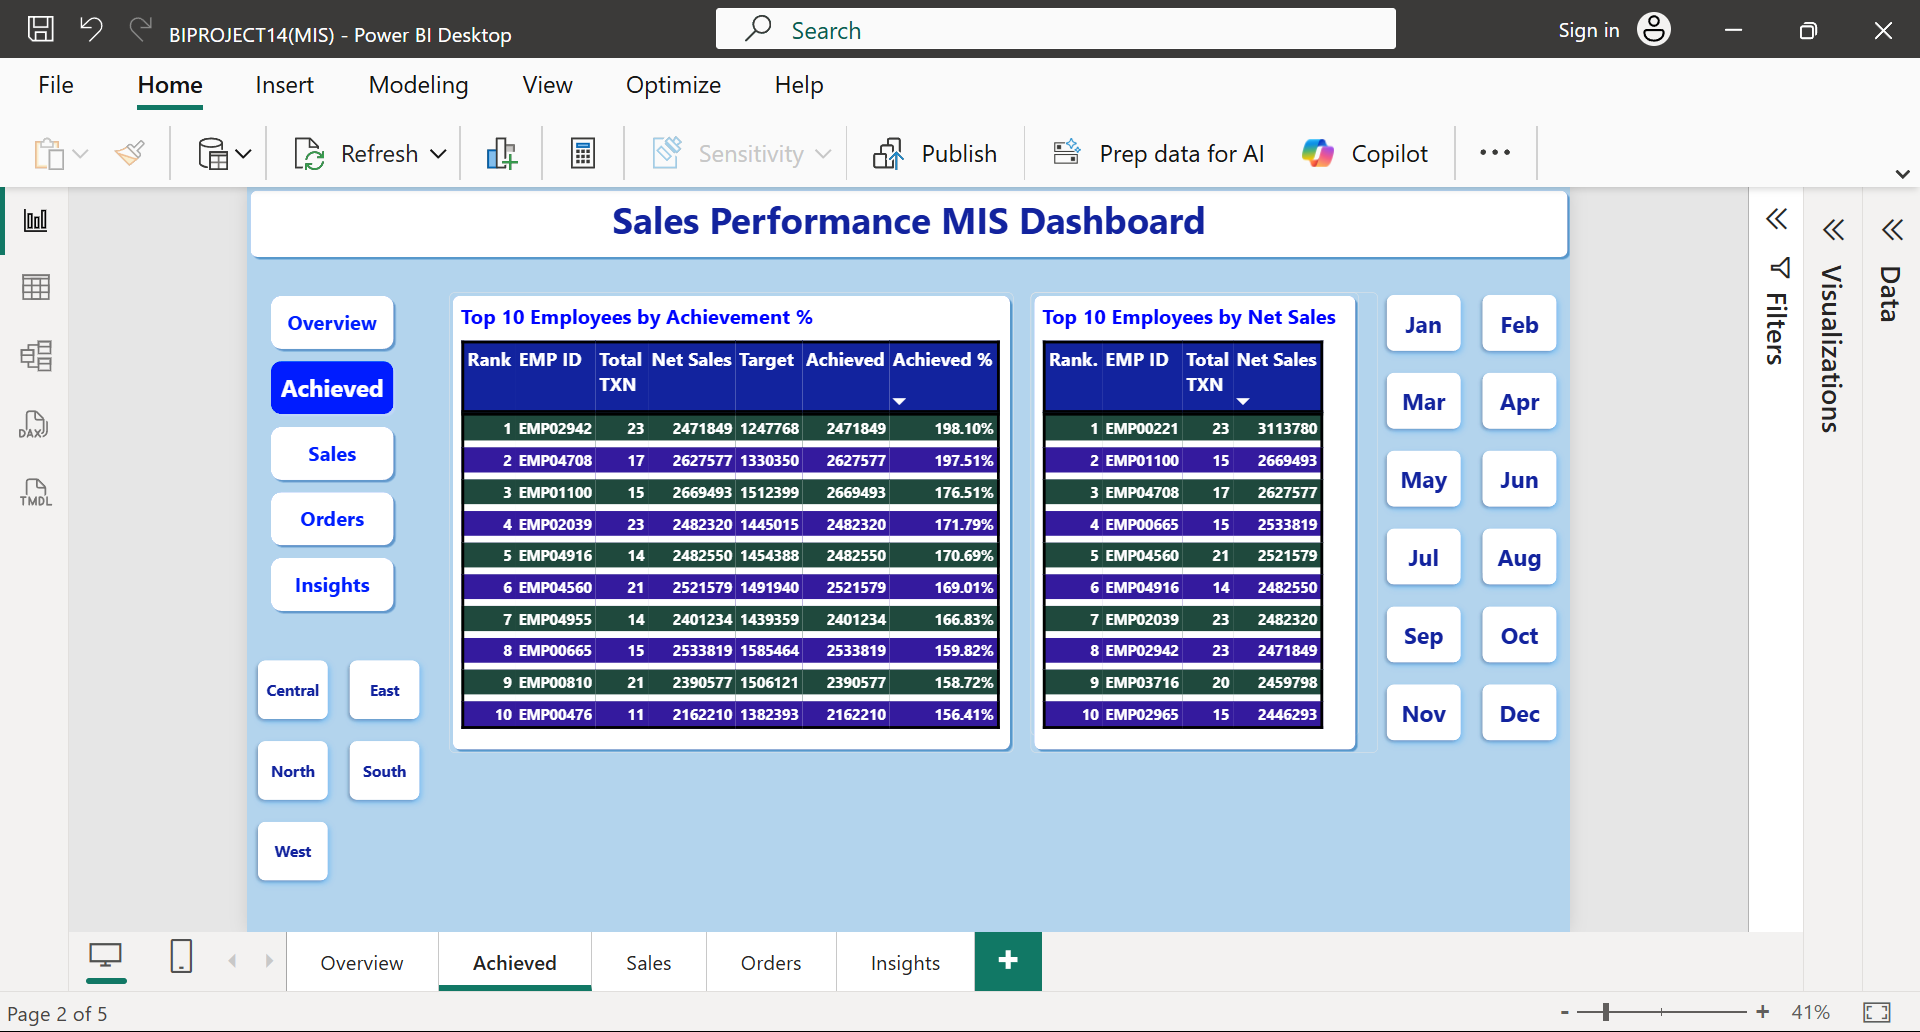

Layout of this report page (visuals, bound fields, positions):
{"tool":"powerbi","page":{"name":"Achieved","canvas":[1920,1080],"ordinal":1},"visuals":[{"type":"shape","box":[0,0,1920,106.7],"z":0},{"type":"pageNavigator","box":[29,153.9,188.8,470.5],"z":1000},{"type":"advancedSlicerVisual","fields":{"Values":["Clean_data.Region"]},"box":[0,670.9,267.2,351.4],"z":2000},{"type":"advancedSlicerVisual","fields":{"Values":["Date Table.Month"]},"box":[1638.1,139.4,278.8,682.5],"z":3000},{"type":"shape","box":[292.2,153.1,818.2,667.9],"z":4000},{"type":"clusteredBarChart","title":"Net Sales By Month","fields":{"Y":["Date Table.Total TXN"]},"box":[1135.4,153.1,475.9,642.9],"z":5000},{"type":"textbox","box":[0,10,1920.2,105.8],"z":6000},{"type":"shape","box":[1135.4,153.1,475.9,667.9],"z":7000},{"type":"tableEx","title":"Top 10 Employees by Achievement %","fields":{"Values":["Date Table.Rank","Master.Employee_ID","Date Table.Total TXN","Date Table.Net Sales","Date Table.Target","Date Table.Achieved","Date Table.Achieved %"]},"box":[292.2,153.1,818.2,667.9],"z":8000},{"type":"tableEx","title":"Top 10 Employees by Net Sales","fields":{"Values":["Date Table.Rank.","Master.EMP ID","Date Table.Total TXN","Date Table.Net Sales"]},"box":[1135.4,153.1,503.7,667.9],"z":10000}]}

Visuals, with their boxes on the page's 1920x1080 design canvas (x1, y1, x2, y2). These are canvas units, not pixel positions in the 1920x1032 screenshot, which may show the page scaled, cropped or inside an application window:
shape: x1=0, y1=0, x2=1920, y2=107
pageNavigator: x1=29, y1=154, x2=218, y2=624
advancedSlicerVisual - Clean_data.Region: x1=0, y1=671, x2=267, y2=1022
advancedSlicerVisual - Date Table.Month: x1=1638, y1=139, x2=1917, y2=822
shape: x1=292, y1=153, x2=1110, y2=821
"Net Sales By Month" clusteredBarChart: x1=1135, y1=153, x2=1611, y2=796
textbox: x1=0, y1=10, x2=1920, y2=116
shape: x1=1135, y1=153, x2=1611, y2=821
"Top 10 Employees by Achievement %" tableEx: x1=292, y1=153, x2=1110, y2=821
"Top 10 Employees by Net Sales" tableEx: x1=1135, y1=153, x2=1639, y2=821
